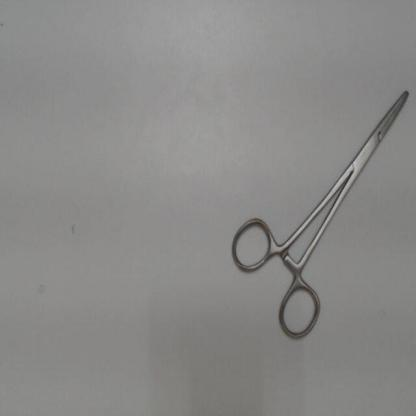Mayo Needle Holder: (225, 81, 415, 346)
